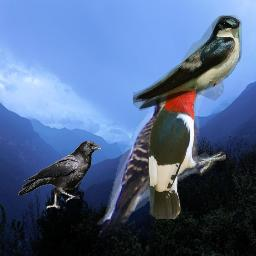Crow: (18, 140, 103, 210)
Swallow: (133, 15, 242, 111)
Woodpecker: (91, 73, 222, 243), (147, 72, 226, 219)
